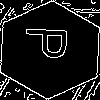P: (25, 25, 78, 61)
